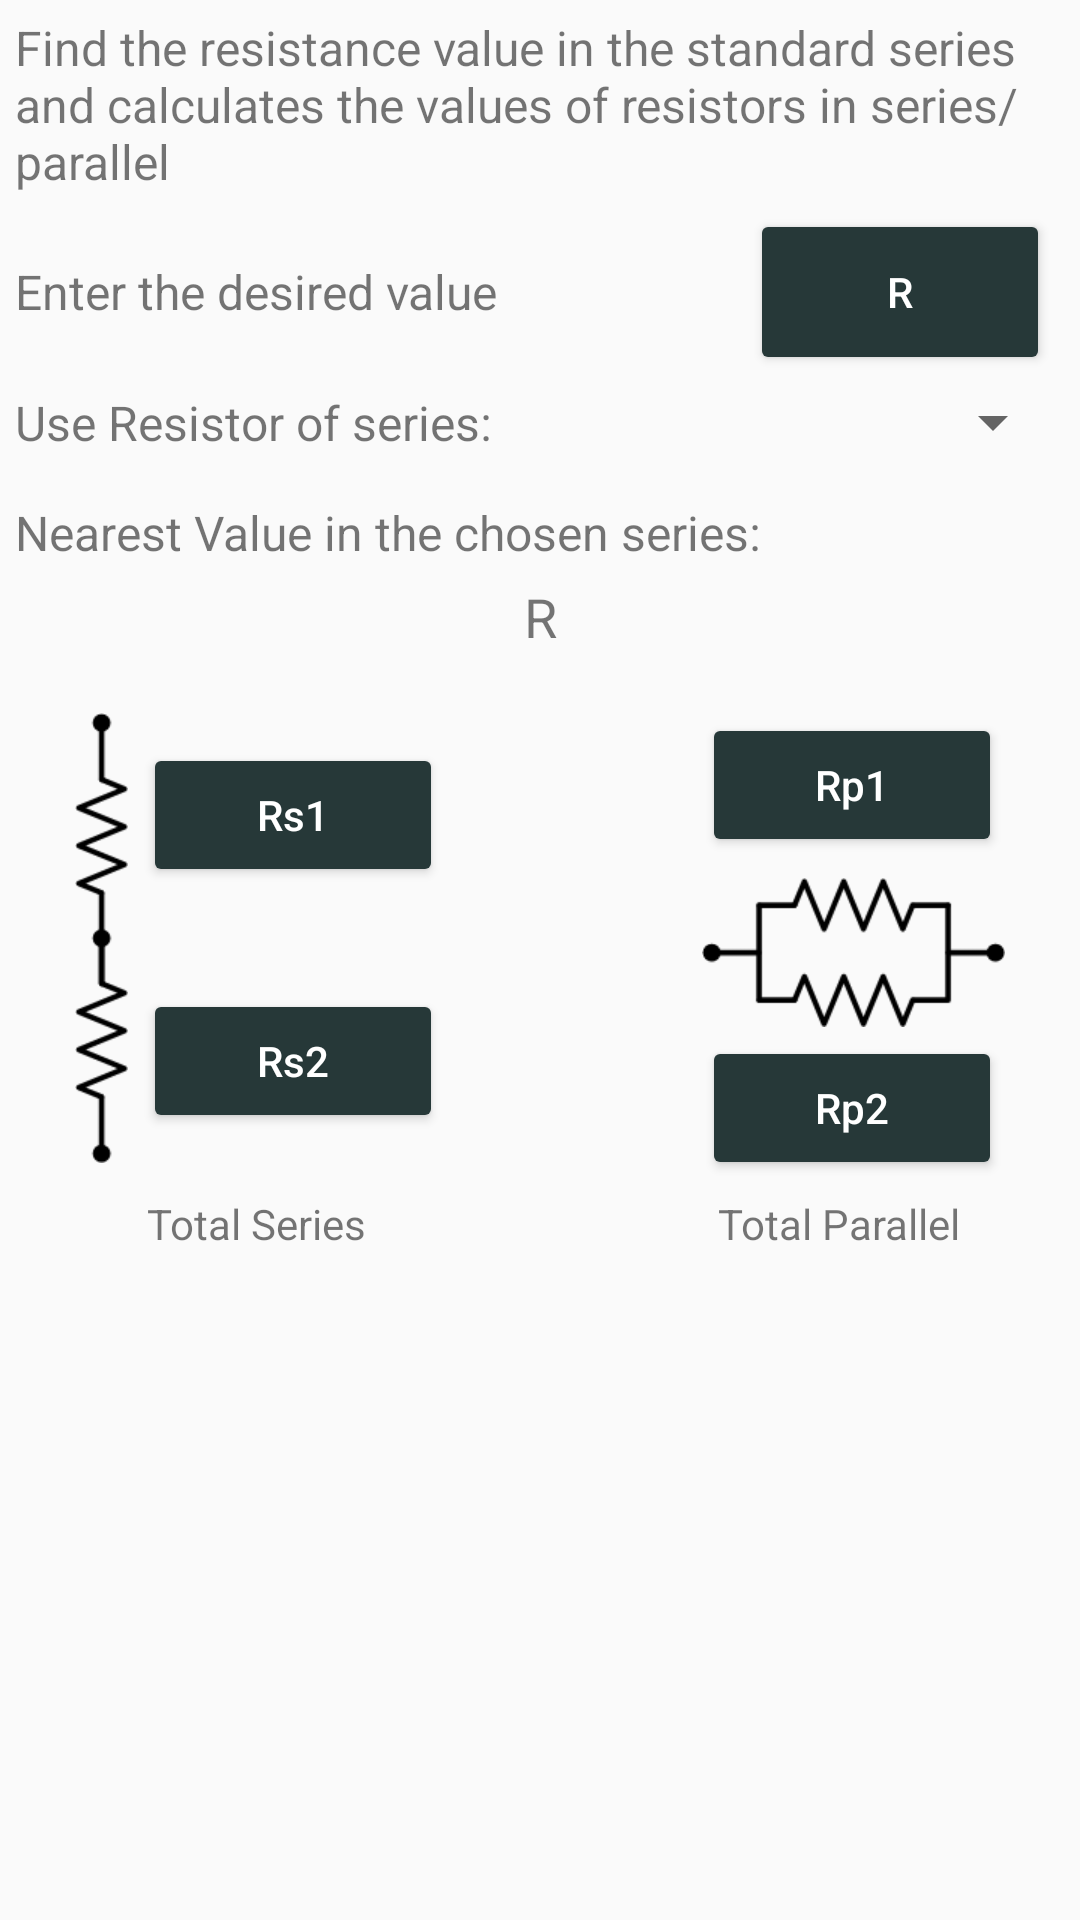

Locate icon controls on the screen. Image size 1080*1920, boxes as box=[x1, y1, x2, y2].
calc res paral: box=[702, 878, 1005, 1027]
